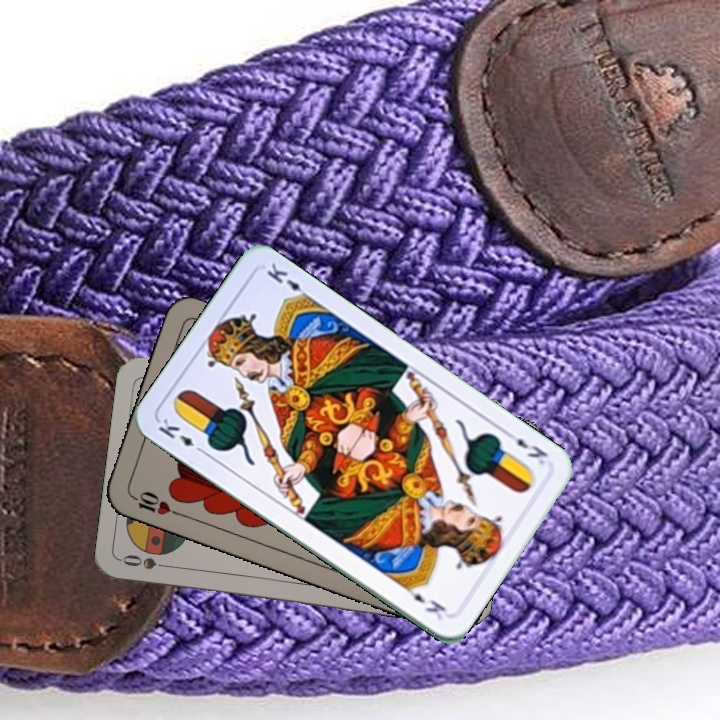EK: (154, 414, 208, 456), (501, 427, 551, 468)
H10: (126, 487, 183, 518)
SO: (118, 550, 177, 572)
